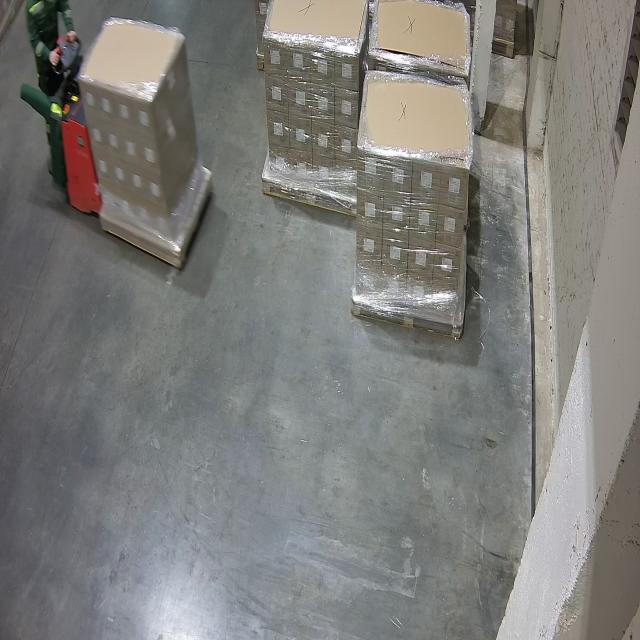pallet: (80, 12, 186, 105)
